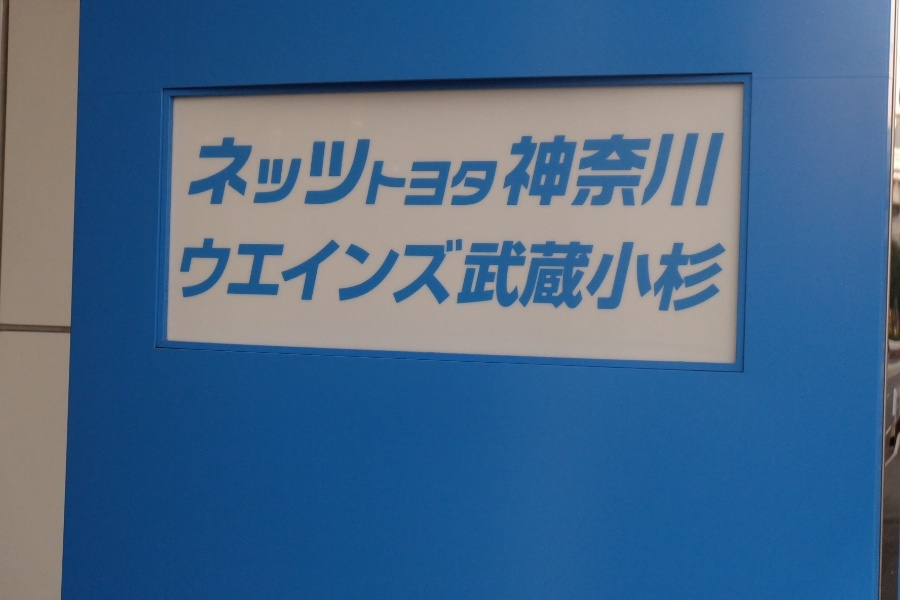text: (193, 238, 208, 315), (209, 238, 224, 315), (225, 238, 240, 315), (241, 238, 256, 315), (257, 238, 272, 315), (273, 238, 288, 315), (289, 238, 304, 315), (305, 238, 320, 315), (321, 238, 336, 315), (337, 238, 352, 315), (353, 238, 368, 315), (369, 238, 384, 315), (385, 238, 400, 315), (401, 238, 416, 315), (417, 238, 432, 315), (433, 238, 448, 315), (449, 238, 464, 315), (465, 238, 480, 315), (481, 238, 496, 315), (497, 238, 512, 315), (513, 238, 528, 315), (529, 238, 544, 315), (545, 238, 560, 315), (561, 238, 576, 315), (577, 238, 592, 315), (593, 238, 608, 315), (609, 238, 624, 315), (625, 238, 640, 315), (641, 238, 656, 315), (657, 238, 672, 315), (673, 238, 688, 315), (689, 238, 704, 315), (705, 238, 720, 315), (209, 134, 224, 209), (225, 134, 240, 209), (241, 134, 256, 209), (257, 134, 272, 209), (273, 134, 288, 209), (289, 134, 304, 209), (305, 134, 320, 209), (321, 134, 336, 209), (337, 134, 352, 209), (353, 134, 368, 209), (369, 134, 384, 209), (385, 134, 400, 209), (401, 134, 416, 209), (417, 134, 432, 209), (433, 134, 448, 209), (449, 134, 464, 209), (465, 134, 480, 209), (481, 134, 496, 209), (497, 134, 512, 209), (513, 134, 528, 209), (529, 134, 544, 209), (545, 134, 560, 209), (561, 134, 576, 209), (577, 134, 592, 209), (593, 134, 608, 209), (609, 134, 624, 209), (625, 134, 640, 209), (641, 134, 656, 209), (657, 134, 672, 209), (673, 134, 688, 209), (689, 134, 704, 209), (705, 134, 720, 209), (186, 238, 192, 315), (721, 238, 727, 315), (721, 134, 726, 209), (204, 134, 208, 209)
